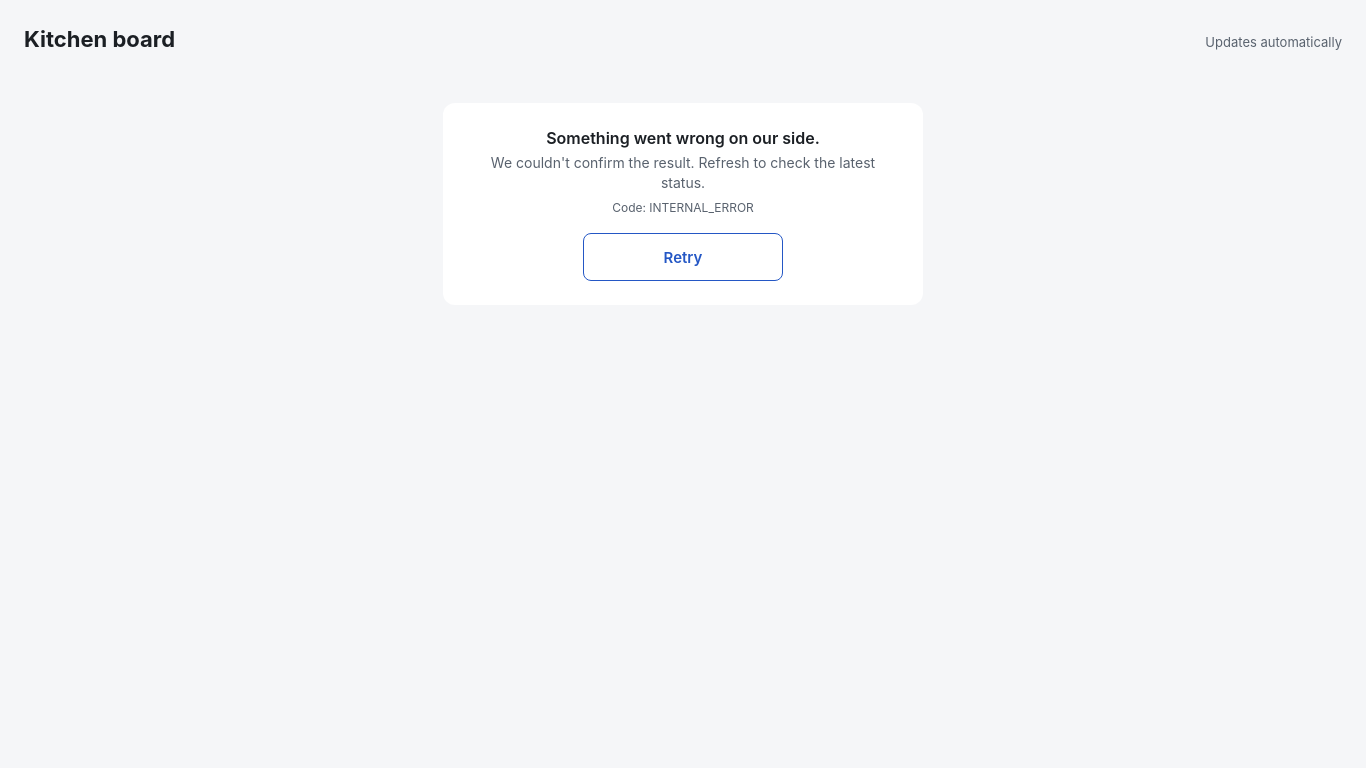
Test case: KitchenBoardPage › shows the error state on a failed first load and recovers with Retry
The image size is (1366, 768).
Expected: the message shows "Something went wrong on our side.", 546,128 -> 820,148
Expected: the message shows "Code: INTERNAL_ERROR", 443,103 -> 923,305
What coordinates should you click on to do the following:
click the button "Retry"
I would click on:
 (683, 257)
Its box is 583,233 -> 783,281.
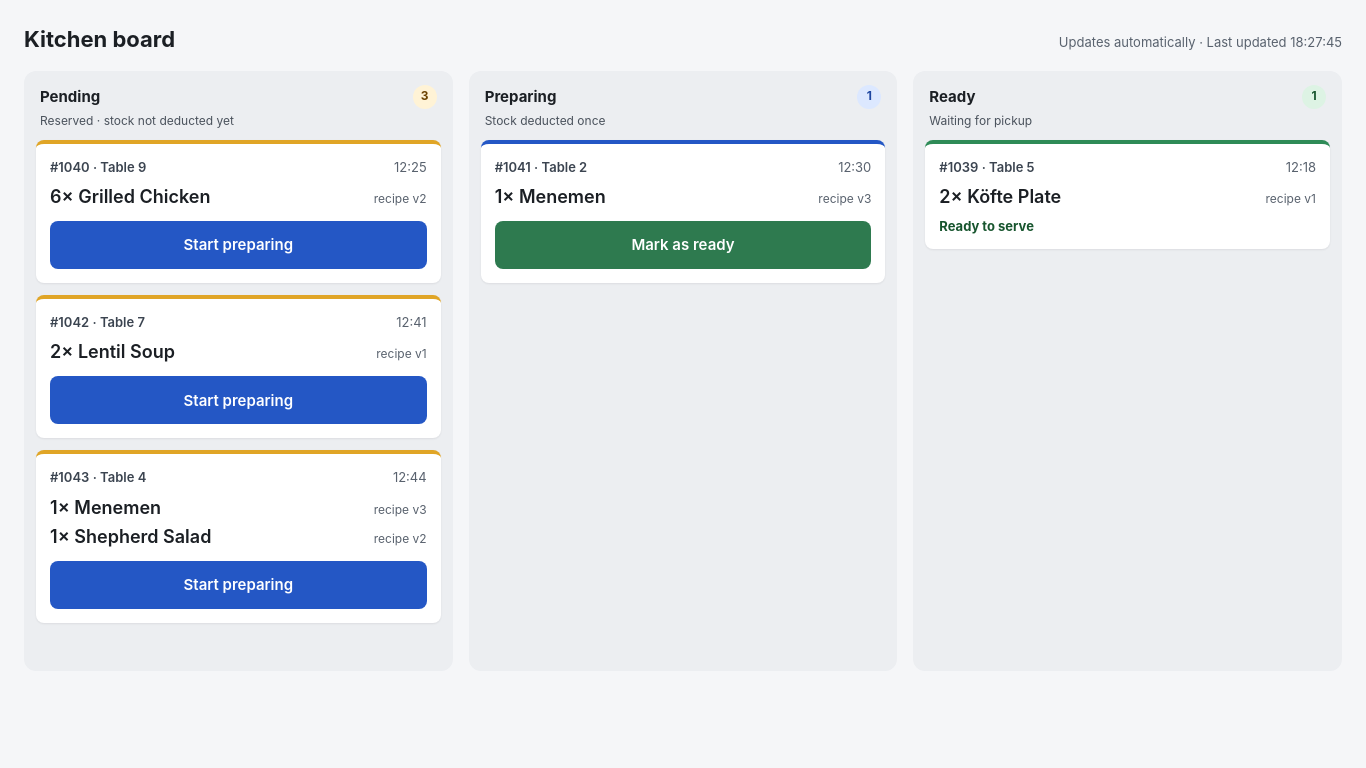
Expected: the element "Pending" is shown, 24,71 -> 453,671
